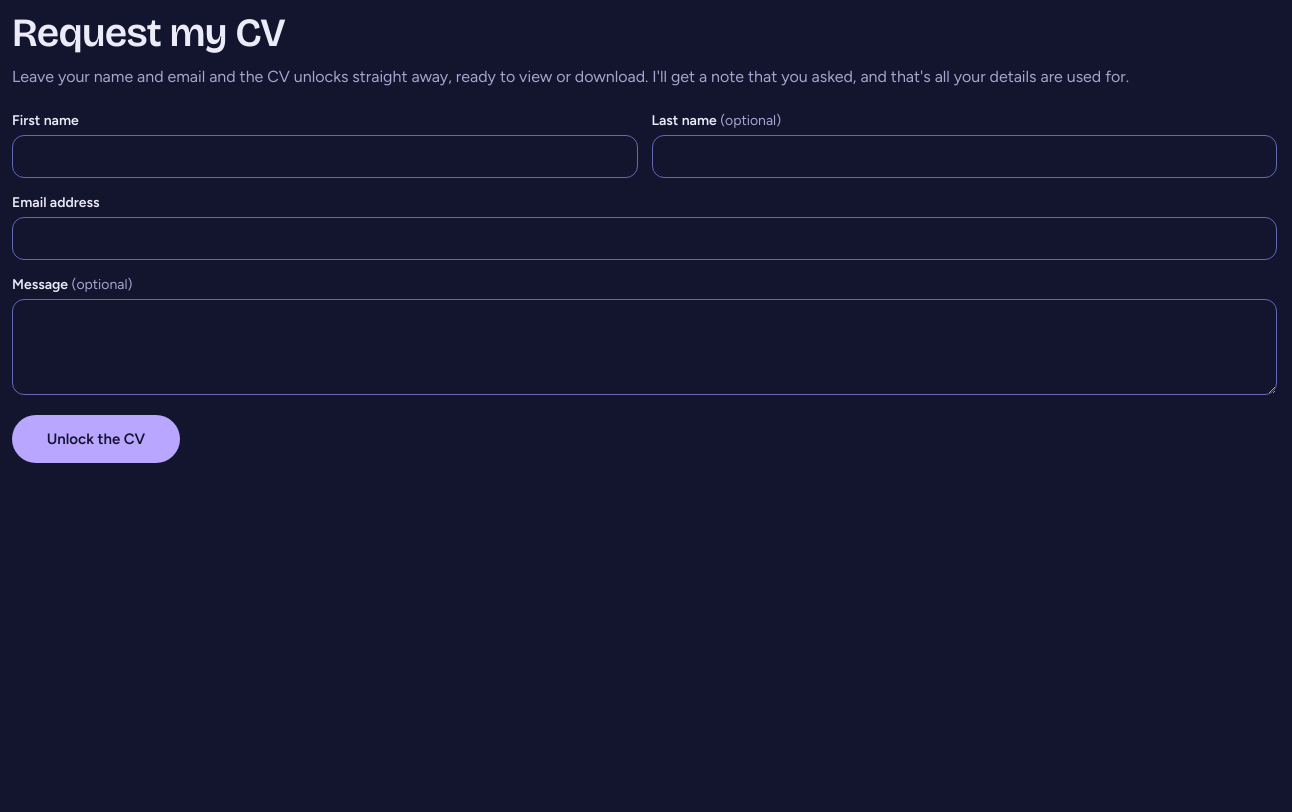
it: CVRequestForm › hands control back when the request fails, so it can be retried
Type "Ada" into the field labelled "First name". click: coordinates (325, 156)
box: [12,135,638,178]
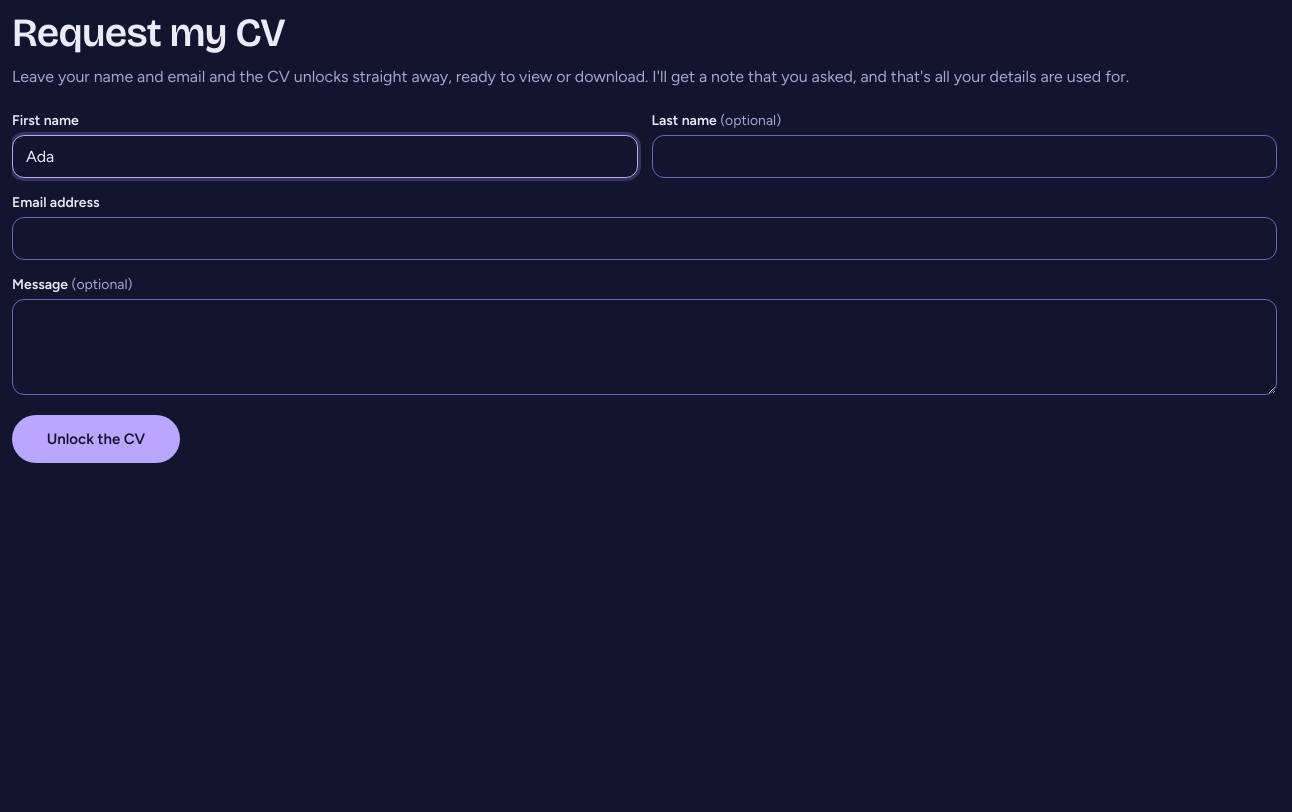
Type "Lovelace" into the field labelled "Last name (optional)". click: coordinates (964, 156)
box: [652,135,1277,178]
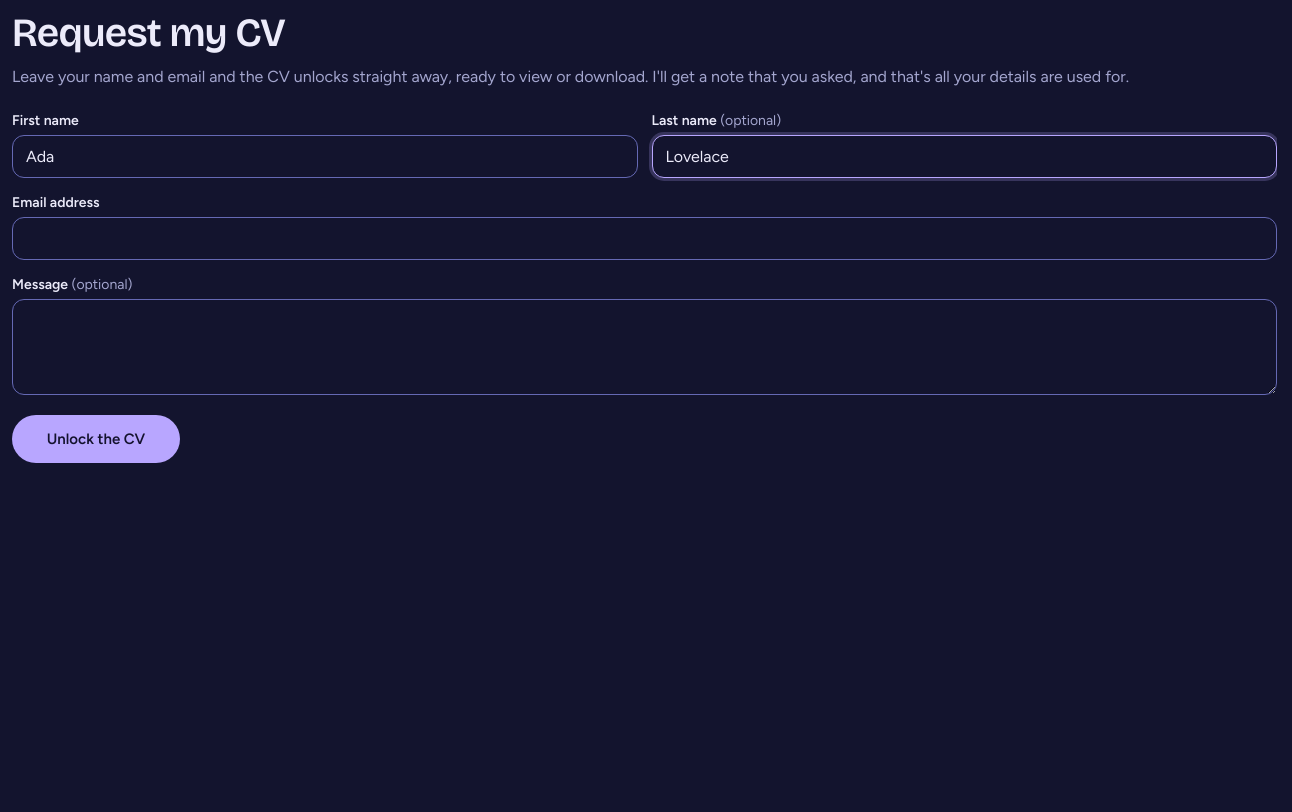
Type "ada@example.com" into the field labelled "Email address". click: coordinates (644, 238)
box: [12,217,1277,260]
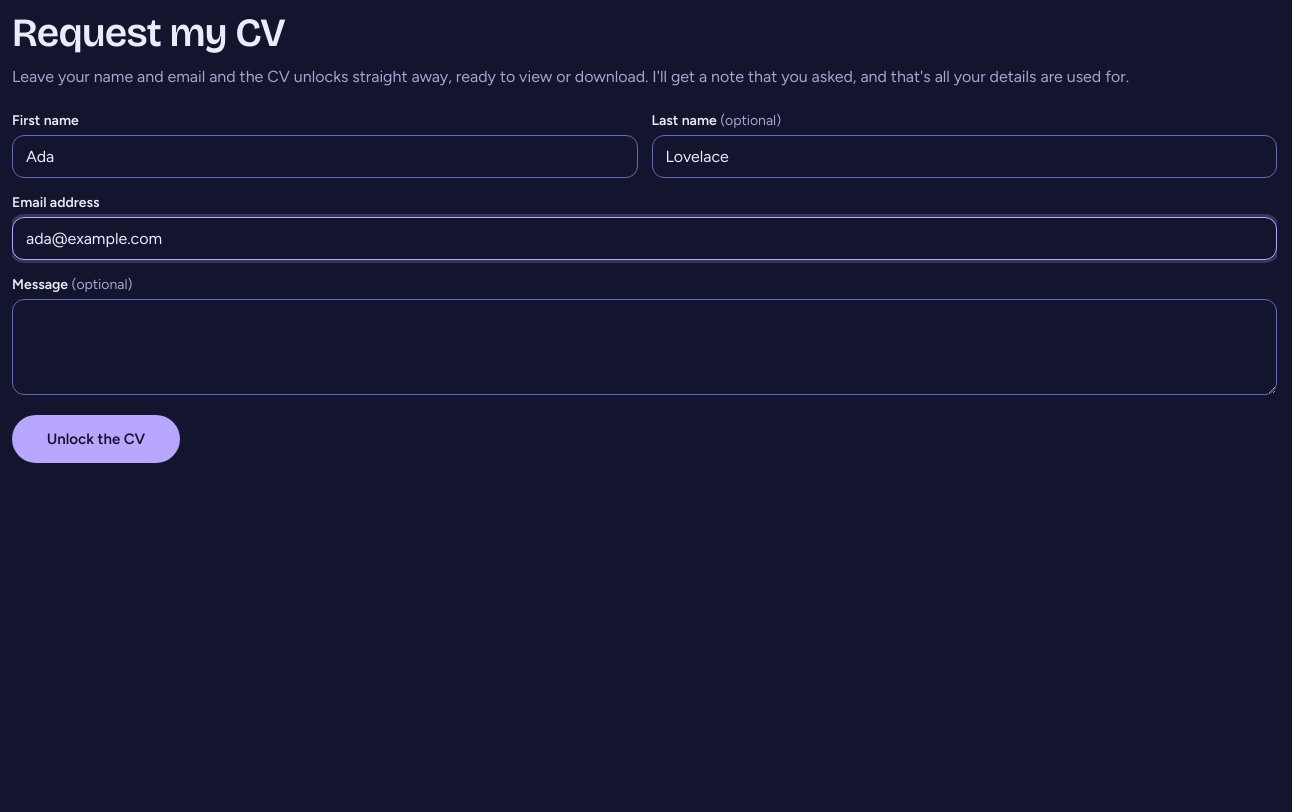
Type "Hello" into the text box labelled "Message (optional)". click: coordinates (644, 347)
box: [12,299,1277,395]
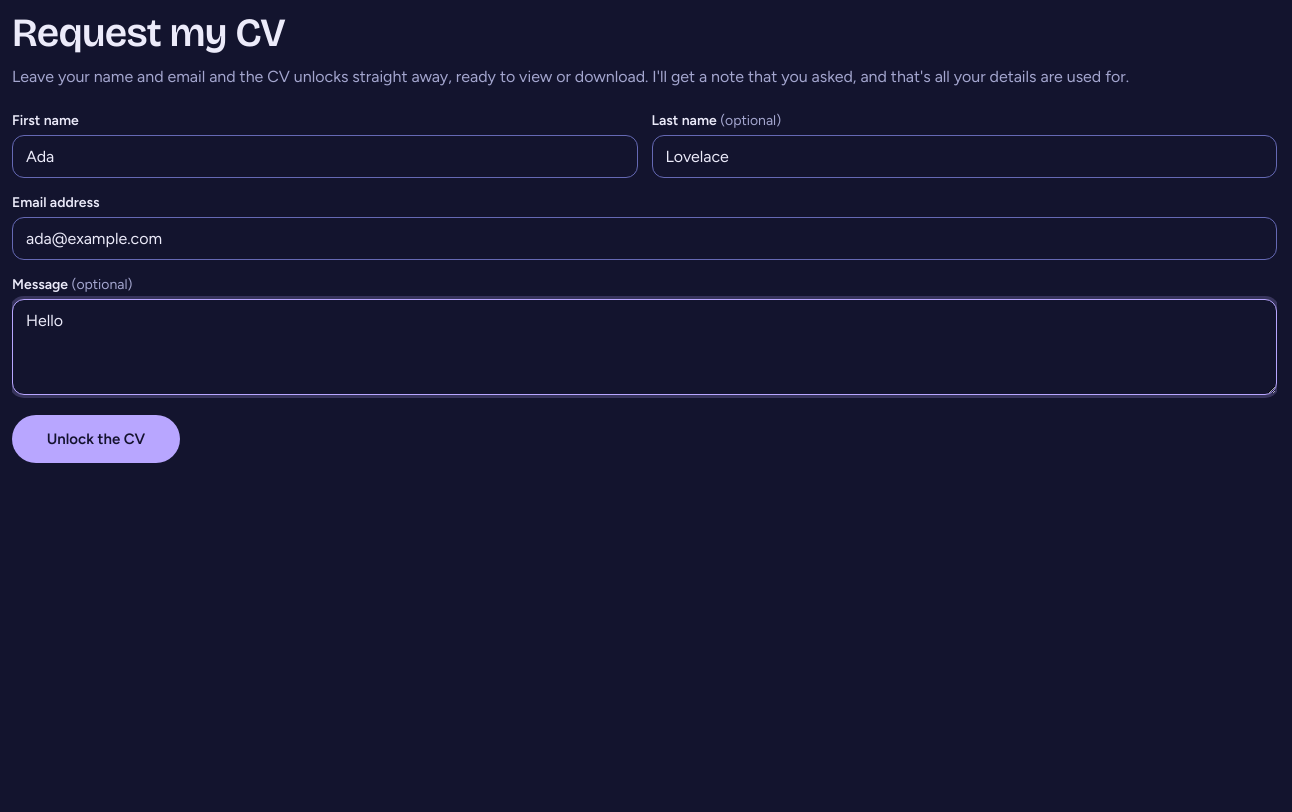
Click the button "Unlock the CV". click: coordinates (96, 439)
box: [12,415,180,463]
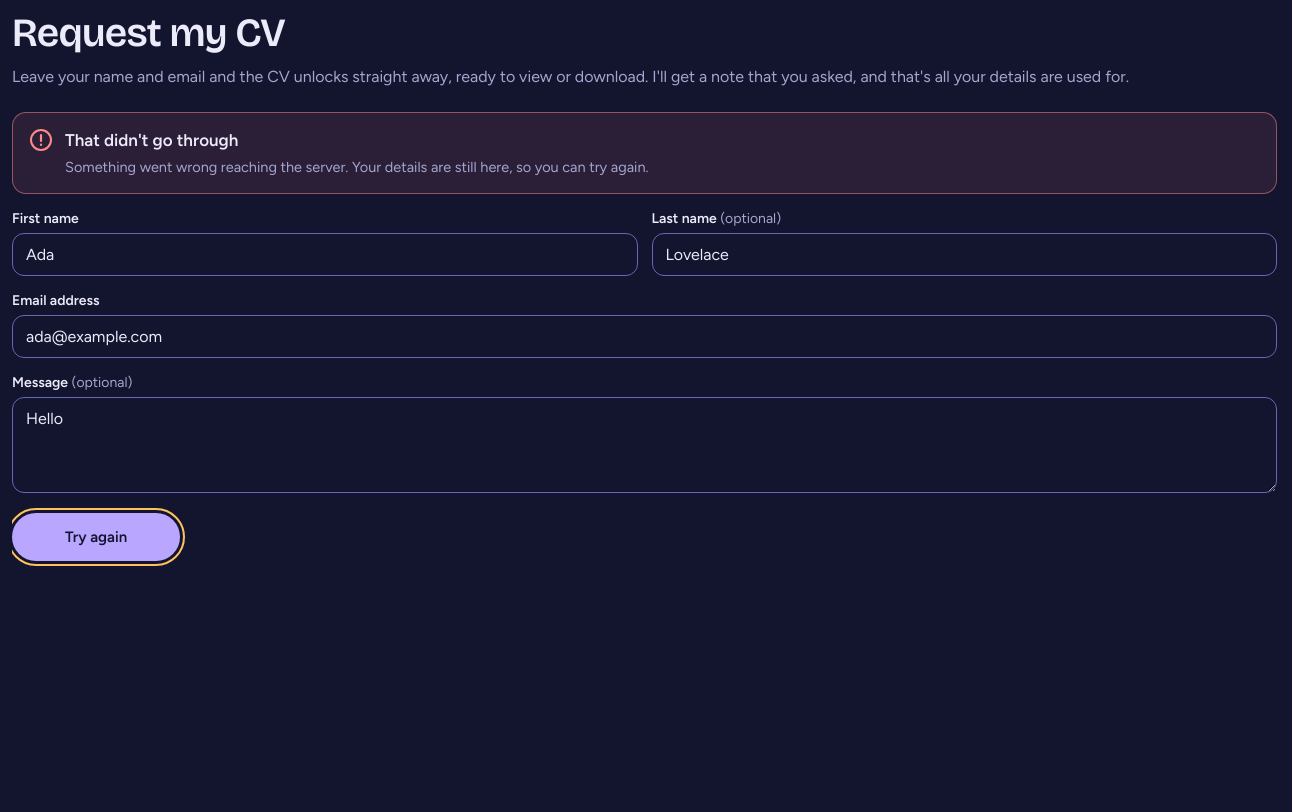
expect the heading "CV unlocked" is not shown: met
expect the message shows "That didn't go through": met, box [65,130,238,150]
Click the button "Try again". click: coordinates (96, 537)
box: [12,513,180,562]
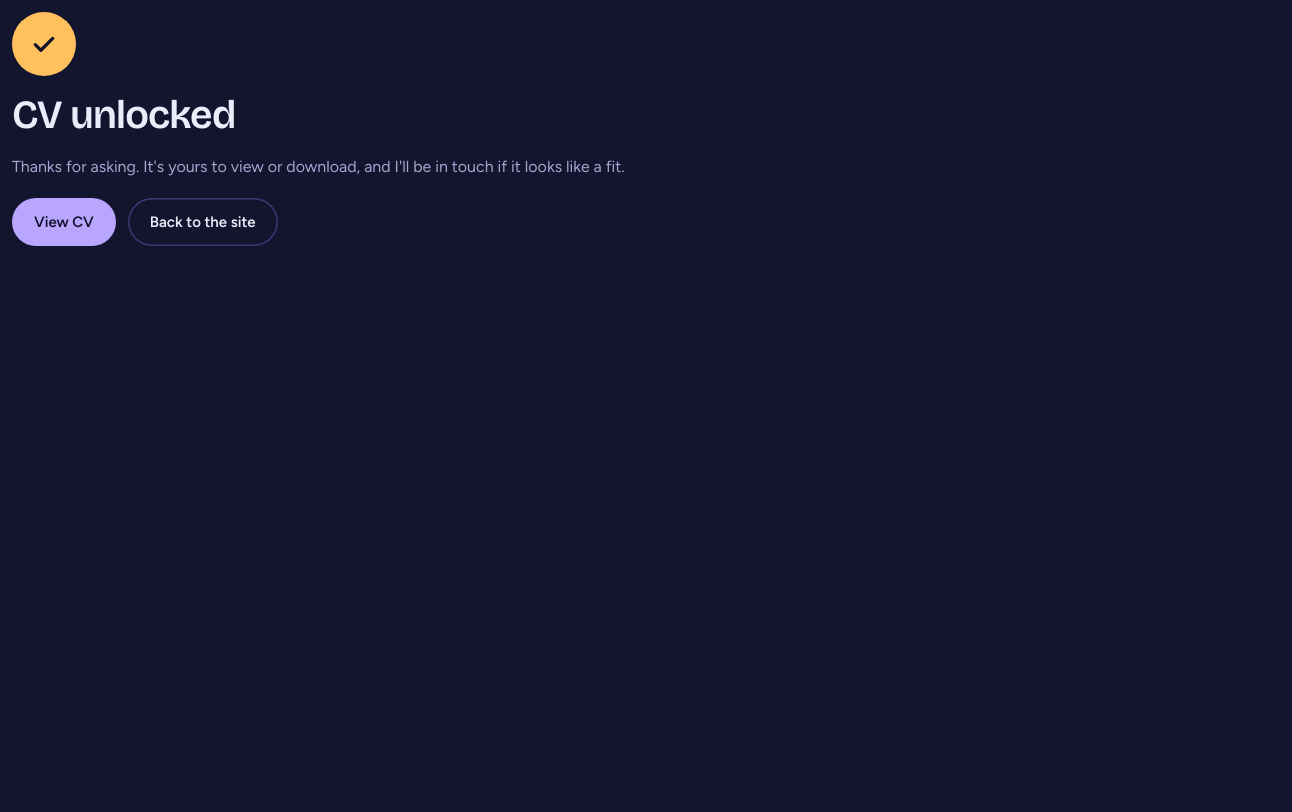
expect the heading "CV unlocked" is shown: met, box [12,91,235,139]
